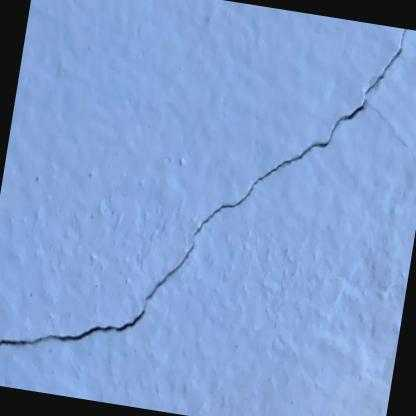crack: (0, 28, 407, 347)
